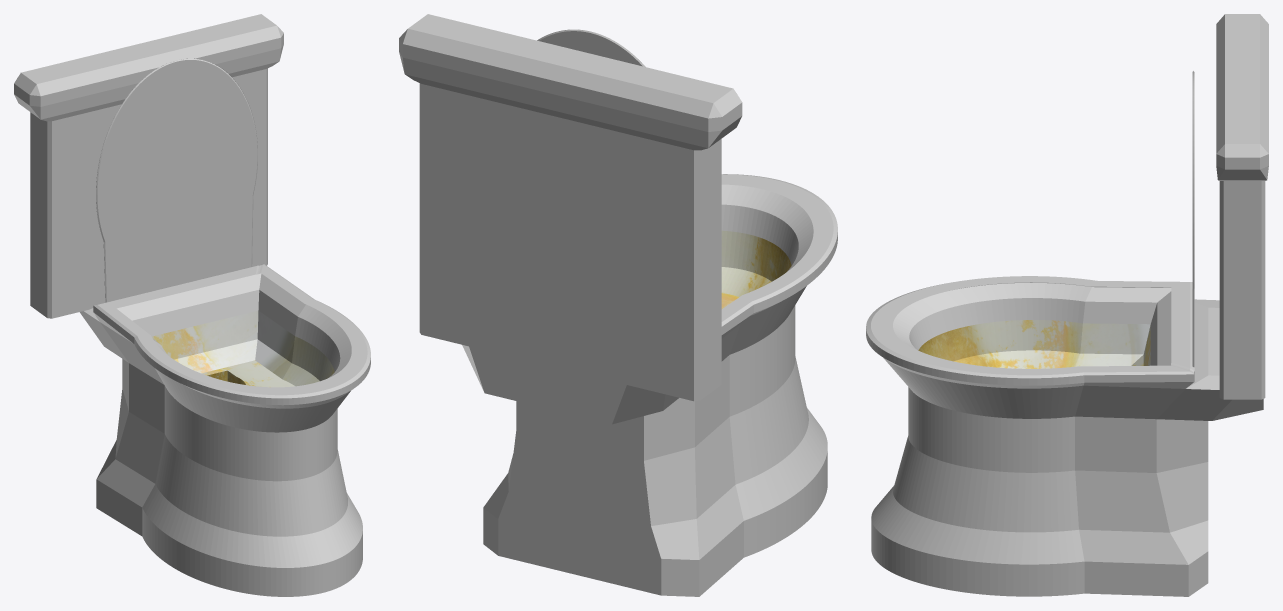
File: Dirty Toilet NEW.fbx
3 renders of one model, left to right at view 1: azimuth 30°, elevation 25°; view 2: azimuth 150°, elevation 25°; view 3: azimuth 270°, elevation 25°, orthographic. The views are drawn at different scales.
Parts seen in each view (by area): view 1: Toilet, Seat, Dirt; view 2: Toilet, Seat, Dirt; view 3: Toilet, Seat, Dirt.
Part boxes in pixels (<box>): Toilet: <box>14,14,362,596</box>; Seat: <box>93,264,370,408</box>; Dirt: <box>152,310,334,387</box>; Toilet: <box>399,14,827,596</box>; Seat: <box>721,174,837,338</box>; Dirt: <box>721,230,791,308</box>; Toilet: <box>871,14,1268,596</box>; Seat: <box>866,276,1194,388</box>; Dirt: <box>918,320,1150,368</box>.
Bounding box in the file's own units: 167 × 267 × 207.
